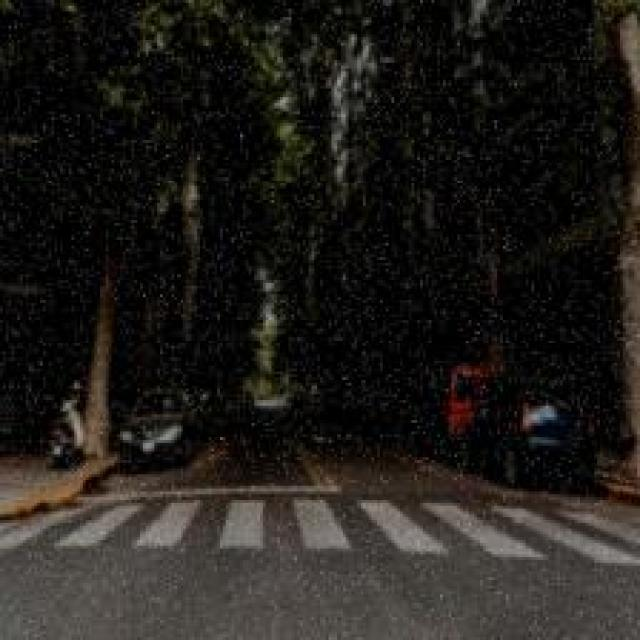zebra: (30, 490, 640, 574)
